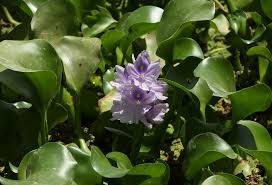water_hyacinth: (0, 1, 271, 184)
